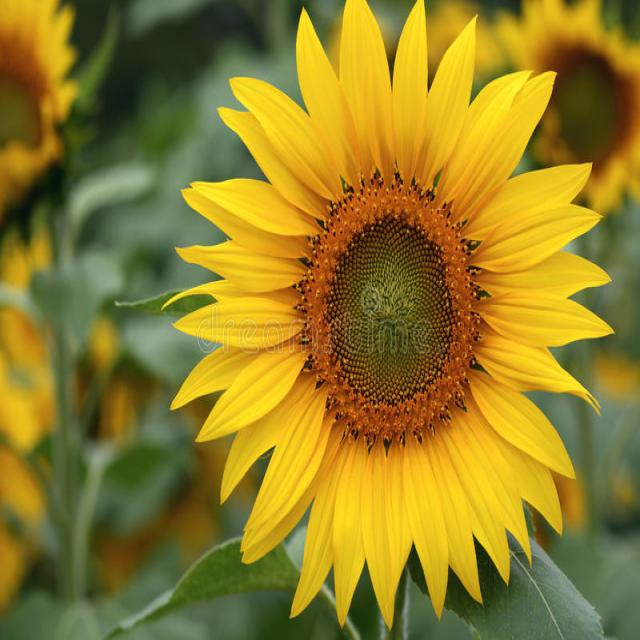sunflower: (174, 11, 608, 639)
